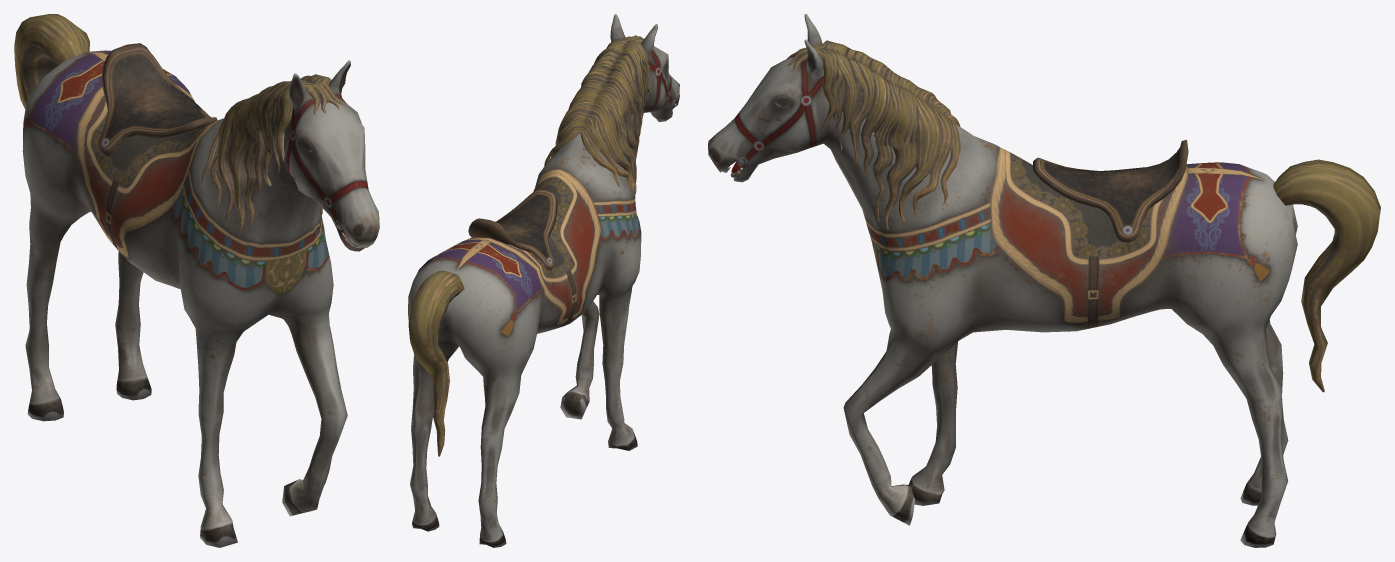
The model's file is SM_SingleHorse.fbx.
The picture shows the model from 3 angles, left to right: view 1: azimuth 30°, elevation 25°; view 2: azimuth 150°, elevation 25°; view 3: azimuth 270°, elevation 25°; orthographic projection. The views are drawn at different scales.
Parts seen in each view (by area): view 1: SM_SingleHorse_LOD0; view 2: SM_SingleHorse_LOD0; view 3: SM_SingleHorse_LOD0.
Part boxes in pixels (x1=…): SM_SingleHorse_LOD0: x1=14, y1=14, x2=379, y2=547; SM_SingleHorse_LOD0: x1=408, y1=14, x2=679, y2=547; SM_SingleHorse_LOD0: x1=708, y1=14, x2=1380, y2=547.
Bounding box in the file's own units: 50.72 × 205 × 166.
Materials: 1 (1 with a texture image).
